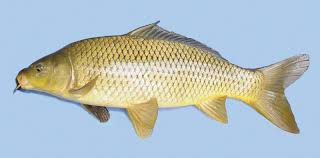carp: (13, 19, 312, 142)
